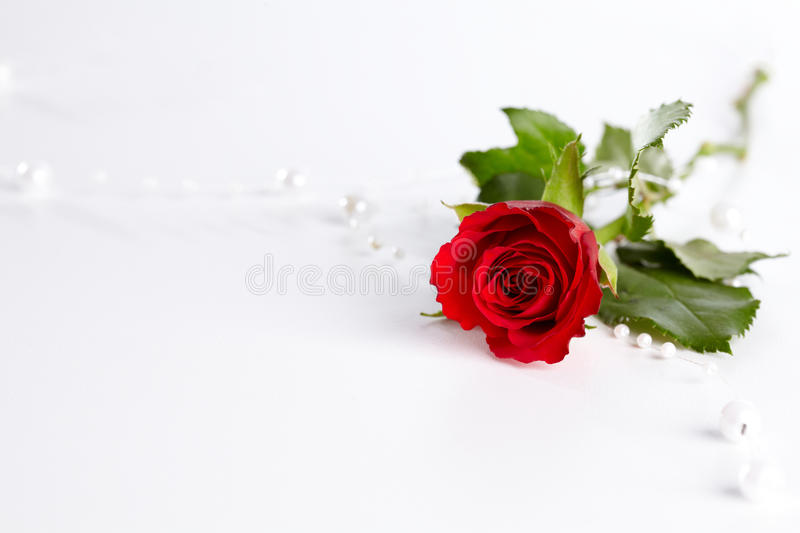RedRose: (421, 204, 595, 361)
